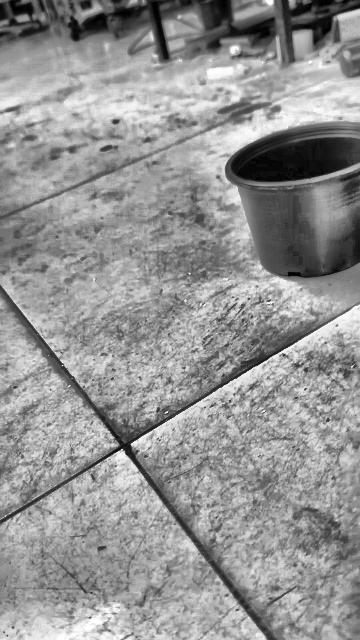pot: (225, 122, 360, 277)
